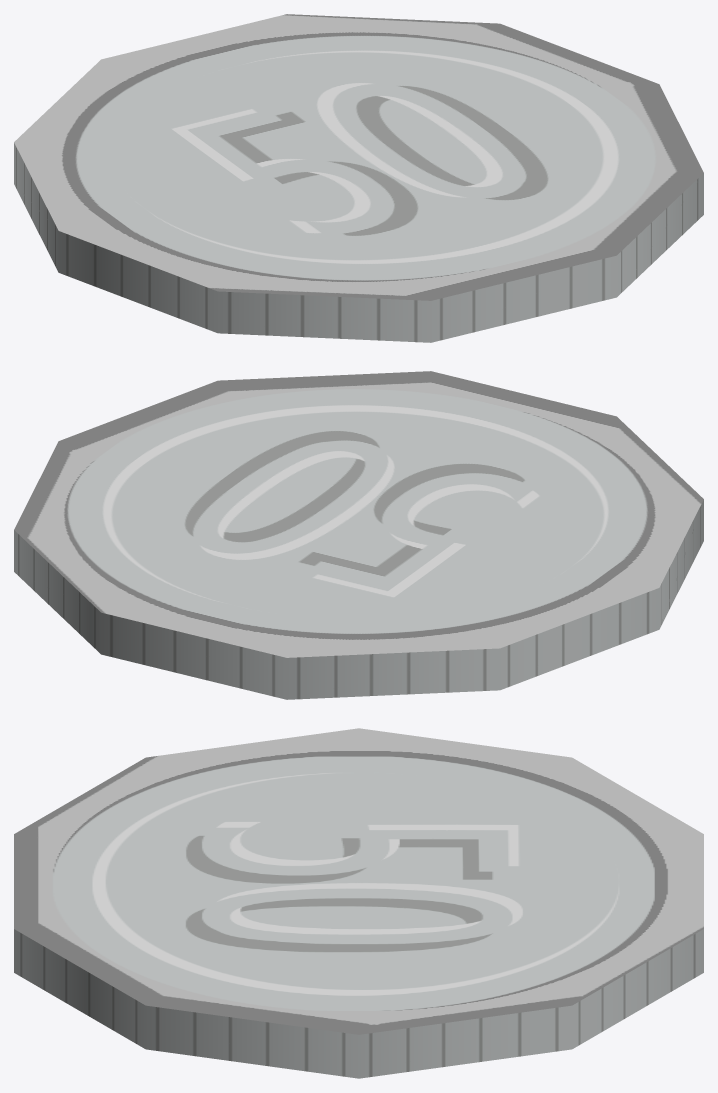
The model's file is Coin_03.FBX.
3 views of the same model, one above another, from view 1: azimuth 30°, elevation 25°; view 2: azimuth 150°, elevation 25°; view 3: azimuth 270°, elevation 25° (orthographic). The views are drawn at different scales.
Parts seen in each view (by area): view 1: Coin_01; view 2: Coin_01; view 3: Coin_01.
Boxes of the visible parts, x1,y1,x2,y2 form: Coin_01: (14,14,703,342); Coin_01: (14,371,703,699); Coin_01: (14,728,703,1078).
Size of the model in its own units: 30 by 2 by 28.53.
Materials: 1 (1 with a texture image).
